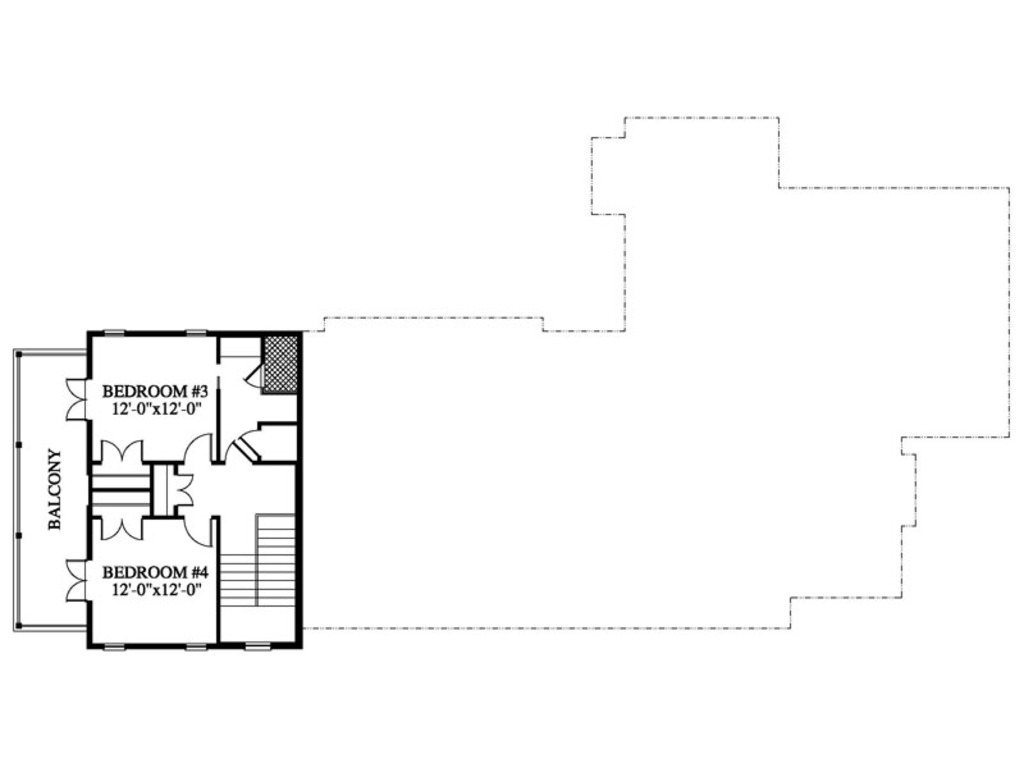door: (99, 513, 151, 541), (61, 375, 89, 423), (97, 437, 158, 459), (63, 554, 86, 604), (184, 513, 215, 548), (216, 439, 253, 467), (237, 426, 267, 460), (181, 432, 215, 461), (175, 471, 196, 512), (244, 365, 263, 387)
stairs: (220, 513, 293, 640)
windows: (239, 640, 272, 653), (179, 326, 212, 339), (102, 327, 127, 343), (181, 639, 211, 652), (98, 639, 125, 653)
